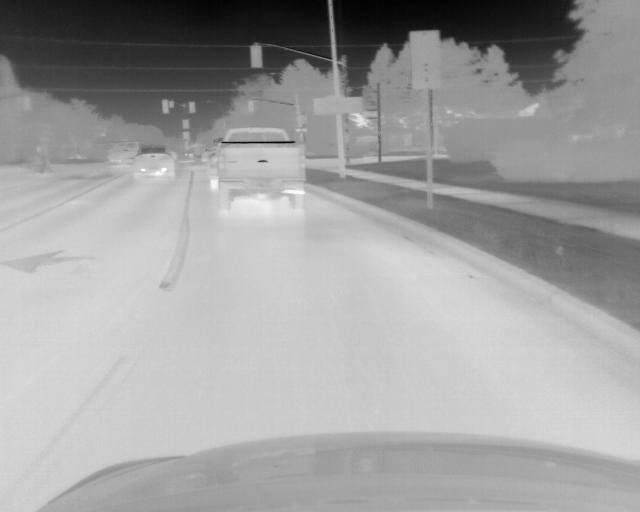car: (218, 127, 306, 211), (133, 145, 176, 181)
